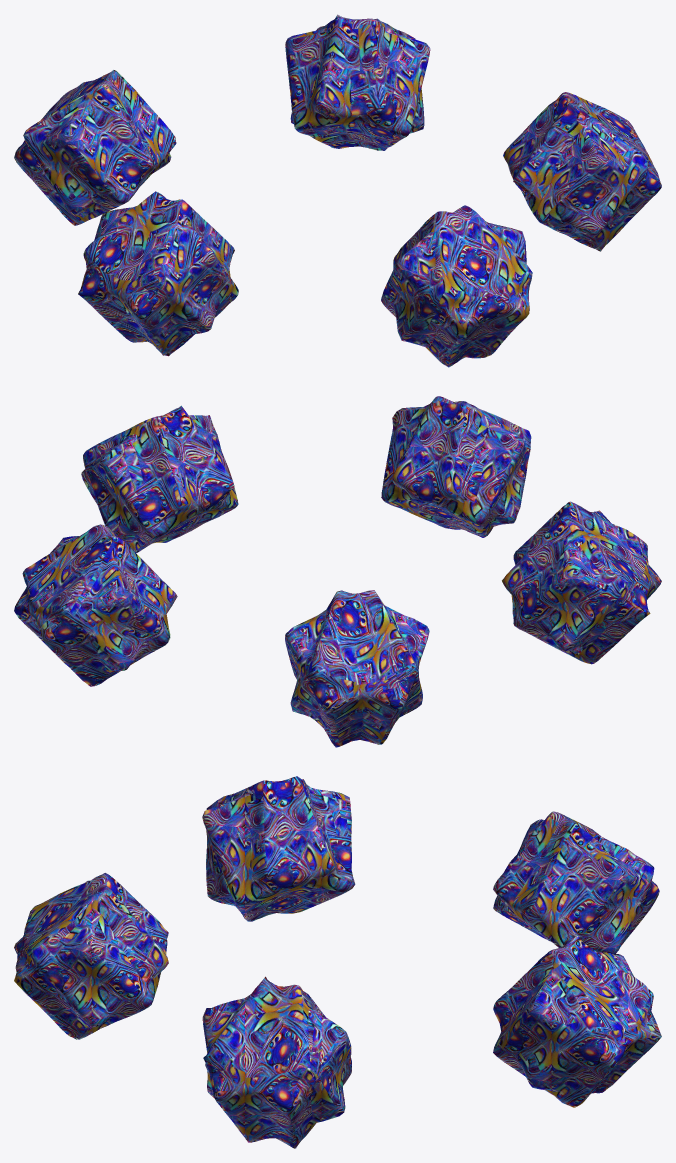
The model's file is spin.glb.
The picture shows the model from 3 angles, top to bottom: view 1: azimuth 30°, elevation 25°; view 2: azimuth 150°, elevation 25°; view 3: azimuth 270°, elevation 25°; orthographic projection. The views are drawn at different scales.
Parts seen in each view (by area): view 1: Retopo_inst_7; view 2: Retopo_inst_7; view 3: Retopo_inst_7.
Boxes of the visible parts, x1,y1,x2,y2 form: Retopo_inst_7: [14, 14, 661, 367]; Retopo_inst_7: [14, 396, 661, 747]; Retopo_inst_7: [14, 776, 661, 1148].
Bounding box in the file's own units: 27.4 × 6.84 × 25.91.
1 material, 1 textured.
